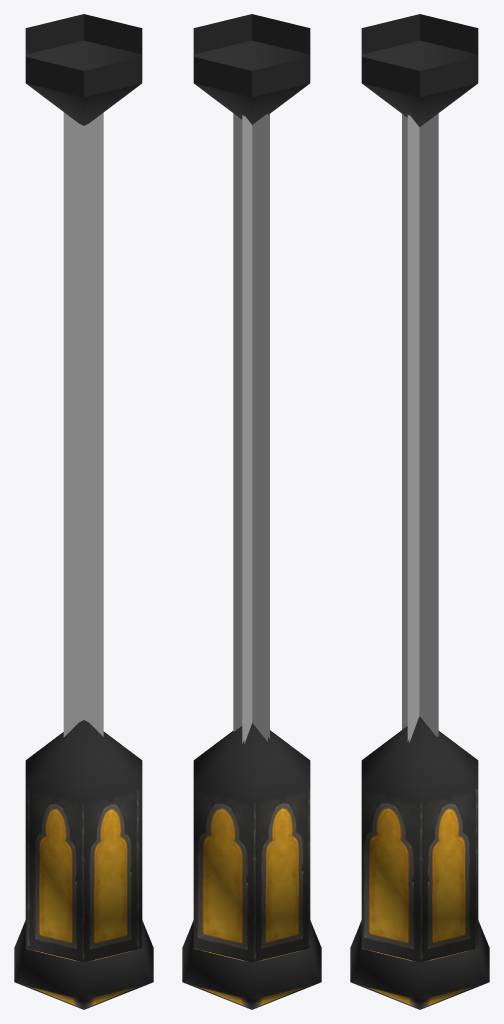
Rendered from light-night.FBX.
3 renders of one model, left to right at view 1: azimuth 90°, elevation 25°; view 2: azimuth 150°, elevation 25°; view 3: azimuth 330°, elevation 25°, orthographic.
Parts seen in each view (by area): view 1: Cylinder003, Plane061; view 2: Cylinder003, Plane061; view 3: Cylinder003, Plane061.
Part boxes in pixels (x1,y1,x2,y2): Cylinder003: [14, 14, 153, 1009]; Plane061: [63, 112, 103, 737]; Cylinder003: [182, 14, 321, 1009]; Plane061: [233, 113, 269, 743]; Cylinder003: [350, 14, 489, 1009]; Plane061: [402, 113, 438, 742].
Size of the model in its own units: 92.8 by 615 by 80.37.
